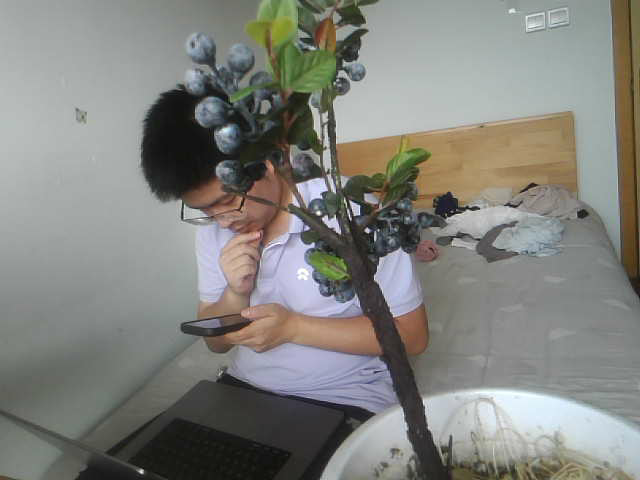blueberry: (216, 154, 249, 189), (195, 93, 228, 124), (183, 29, 217, 59), (291, 145, 319, 175), (224, 38, 253, 66), (215, 126, 245, 147), (251, 72, 276, 94), (308, 195, 331, 215), (382, 226, 401, 248), (183, 65, 200, 88), (312, 93, 331, 112), (334, 72, 352, 92), (393, 198, 413, 216), (349, 58, 369, 75), (302, 245, 322, 262), (337, 282, 351, 303), (314, 268, 329, 286), (421, 212, 435, 224), (318, 292, 332, 297)
